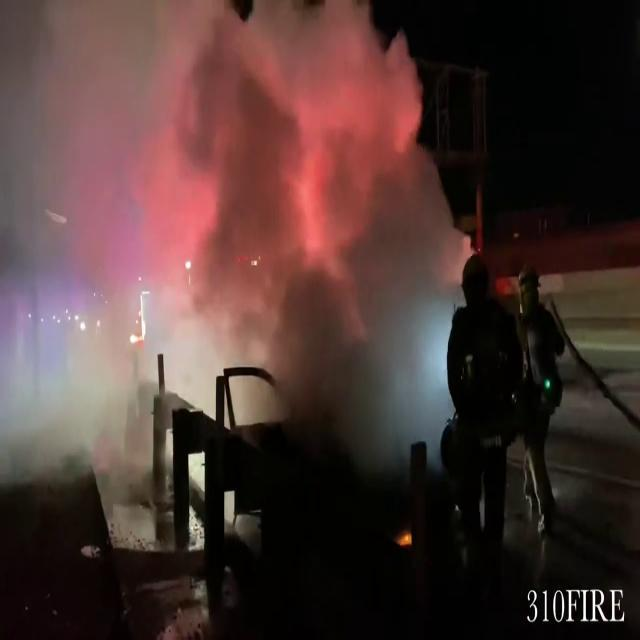Smoke: (1, 0, 438, 469)
